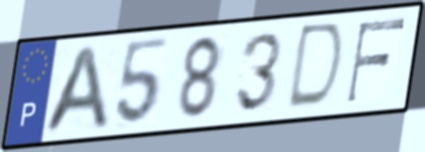3: (234, 30, 284, 113)
5: (112, 34, 174, 129)
8: (177, 33, 225, 121)
A: (38, 42, 112, 138)
D: (283, 20, 348, 113)
F: (343, 16, 409, 107)
